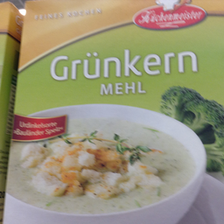flour: (4, 1, 224, 222)
